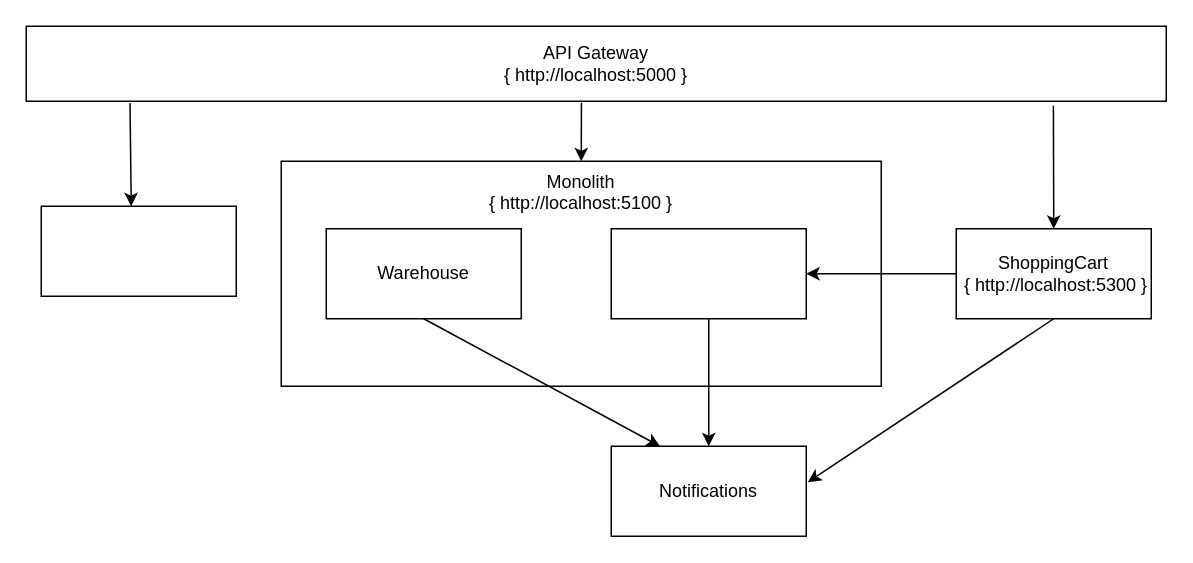
The diagram is 1193 pixels wide and 563 high, and some of its shapes have lost their labels. The shapes that lost their labels are listed below. From the top down, each one's box as (x1, y1, x2, y2) in pixels, then its label:
(40, 205, 236, 296): <fictituous> Product presentation
(610, 227, 806, 319): OrderManagement
